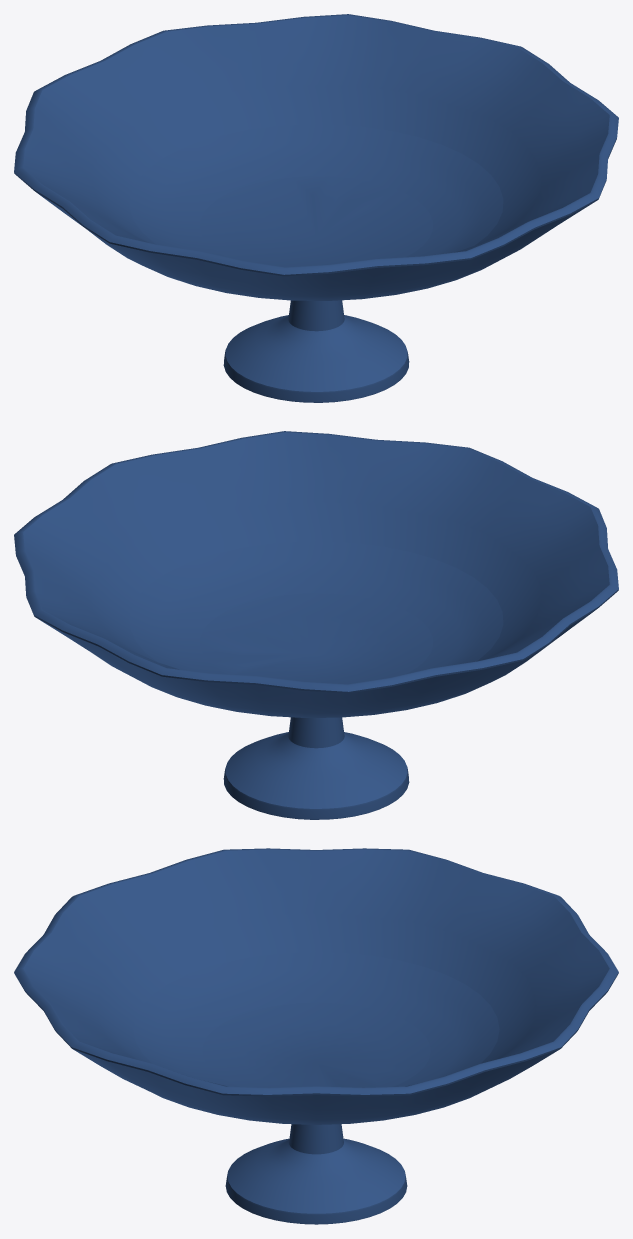
Rendered from Fruttiera.fbx.
3 renders of one model, top to bottom at view 1: azimuth 30°, elevation 25°; view 2: azimuth 150°, elevation 25°; view 3: azimuth 270°, elevation 25°, orthographic. The views are drawn at different scales.
Visible parts, largest first — view 1: Part3, Part5, Part1, Part4, Part2; view 2: Part3, Part5, Part1, Part4, Part2; view 3: Part3, Part5, Part1, Part4, Part2.
Part boxes in pixels (bbox=[...]): Part3: bbox=[23, 15, 609, 257]; Part5: bbox=[14, 14, 618, 389]; Part1: bbox=[91, 85, 541, 245]; Part4: bbox=[199, 176, 432, 267]; Part2: bbox=[223, 325, 409, 402]; Part3: bbox=[23, 432, 609, 674]; Part5: bbox=[14, 431, 618, 806]; Part1: bbox=[91, 502, 541, 661]; Part4: bbox=[200, 593, 432, 684]; Part2: bbox=[223, 742, 409, 819]; Part3: bbox=[23, 849, 609, 1086]; Part5: bbox=[14, 848, 618, 1211]; Part1: bbox=[96, 913, 536, 1063]; Part4: bbox=[202, 1002, 430, 1087]; Part2: bbox=[225, 1149, 407, 1224].
Size of the model in its own units: 50.55 by 20.88 by 52.6.
